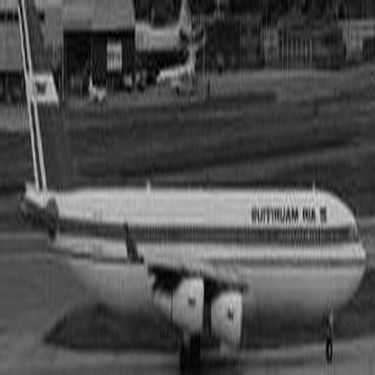airplane: (3, 1, 371, 371), (129, 1, 196, 55), (152, 42, 206, 92)
